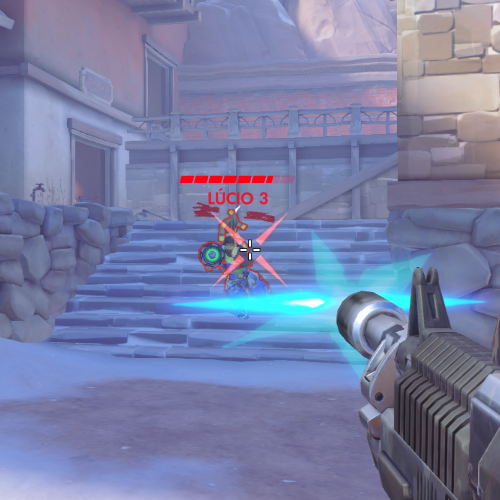hpbar: (179, 175, 296, 184)
